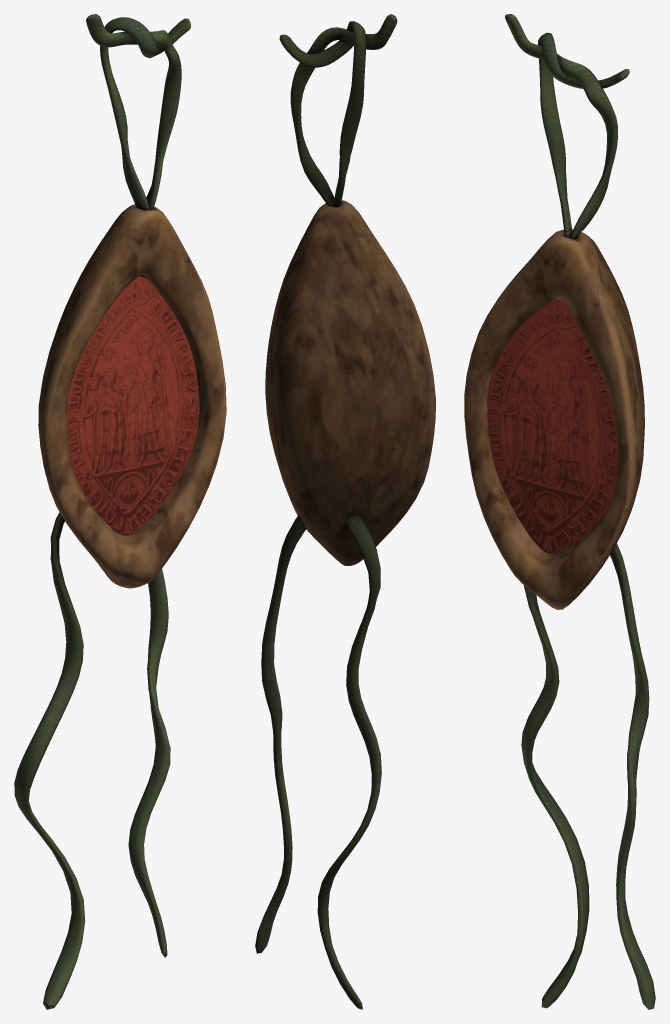
The model's file is Sello_3D_01.glb.
The picture shows the model from 3 angles, left to right: view 1: azimuth 30°, elevation 25°; view 2: azimuth 150°, elevation 25°; view 3: azimuth 330°, elevation 25°; orthographic projection. The views are drawn at different scales.
Parts seen in each view (by area): view 1: Sello_Exterior_01_High.001, Sello_Interior_High.001, BezierCurve_02_High.001, BezierCurve_01_High.001, BezierCurve_03_High.001, BezierCurve_04_High.001; view 2: Sello_Exterior_01_High.001, BezierCurve_02_High.001, BezierCurve_01_High.001, BezierCurve_04_High.001, BezierCurve_03_High.001; view 3: Sello_Exterior_01_High.001, Sello_Interior_High.001, BezierCurve_01_High.001, BezierCurve_02_High.001, BezierCurve_04_High.001, BezierCurve_03_High.001.
Boxes of the visible parts, bbox=[...] form: Sello_Exterior_01_High.001: bbox=[38, 204, 226, 588]; Sello_Interior_High.001: bbox=[66, 275, 199, 535]; BezierCurve_02_High.001: bbox=[14, 512, 85, 1009]; BezierCurve_01_High.001: bbox=[128, 569, 170, 957]; BezierCurve_03_High.001: bbox=[86, 14, 181, 209]; BezierCurve_04_High.001: bbox=[100, 17, 190, 210]; Sello_Exterior_01_High.001: bbox=[265, 200, 435, 565]; BezierCurve_02_High.001: bbox=[317, 515, 381, 1009]; BezierCurve_01_High.001: bbox=[255, 515, 306, 953]; BezierCurve_04_High.001: bbox=[279, 21, 366, 207]; BezierCurve_03_High.001: bbox=[290, 14, 397, 206]; Sello_Exterior_01_High.001: bbox=[464, 229, 644, 609]; Sello_Interior_High.001: bbox=[487, 299, 618, 553]; BezierCurve_01_High.001: bbox=[610, 543, 655, 1009]; BezierCurve_02_High.001: bbox=[521, 585, 589, 1008]; BezierCurve_04_High.001: bbox=[538, 32, 629, 237]; BezierCurve_03_High.001: bbox=[505, 14, 618, 239].
Size of the model in its own units: 5.31 by 29.57 by 3.58.
6 materials, 6 textured.
